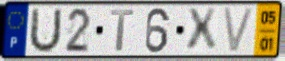2: (63, 7, 93, 55)
6: (143, 6, 172, 55)
T: (109, 8, 136, 53)
U: (26, 6, 64, 56)
V: (221, 6, 257, 55)
X: (185, 7, 219, 55)
